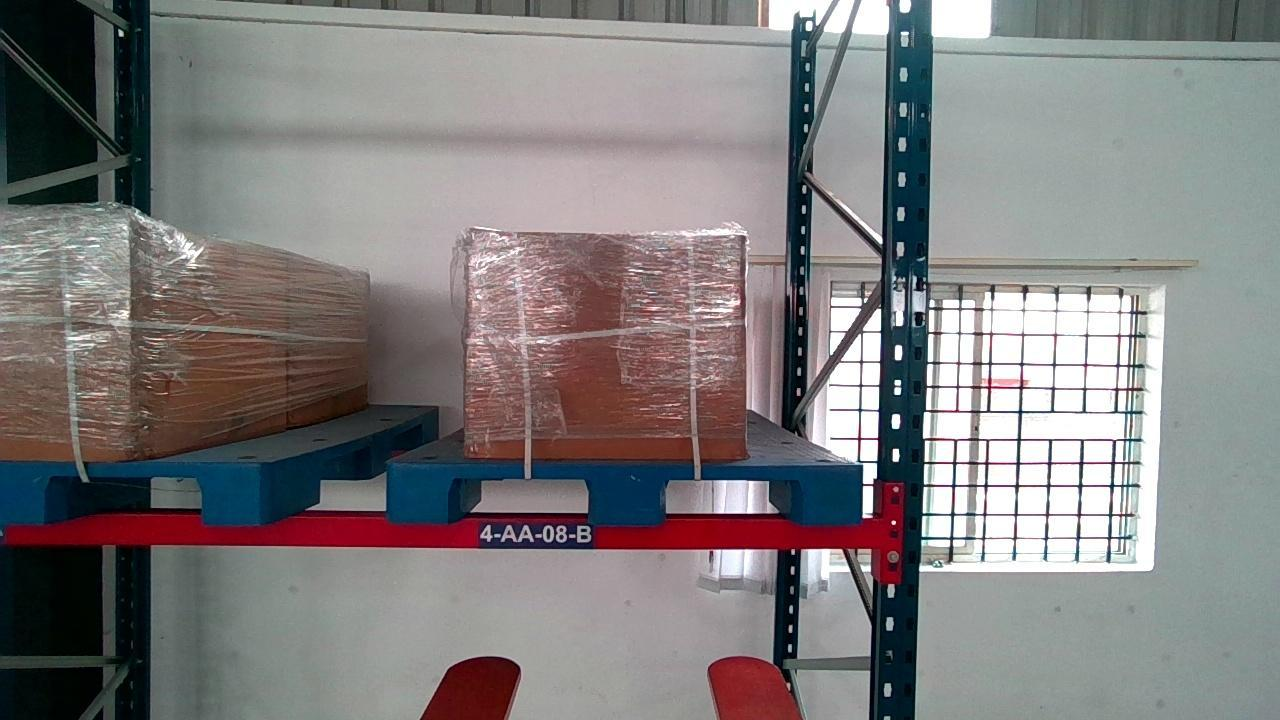h_rack: (6, 514, 887, 546)
small_pallet: (391, 462, 860, 520)
